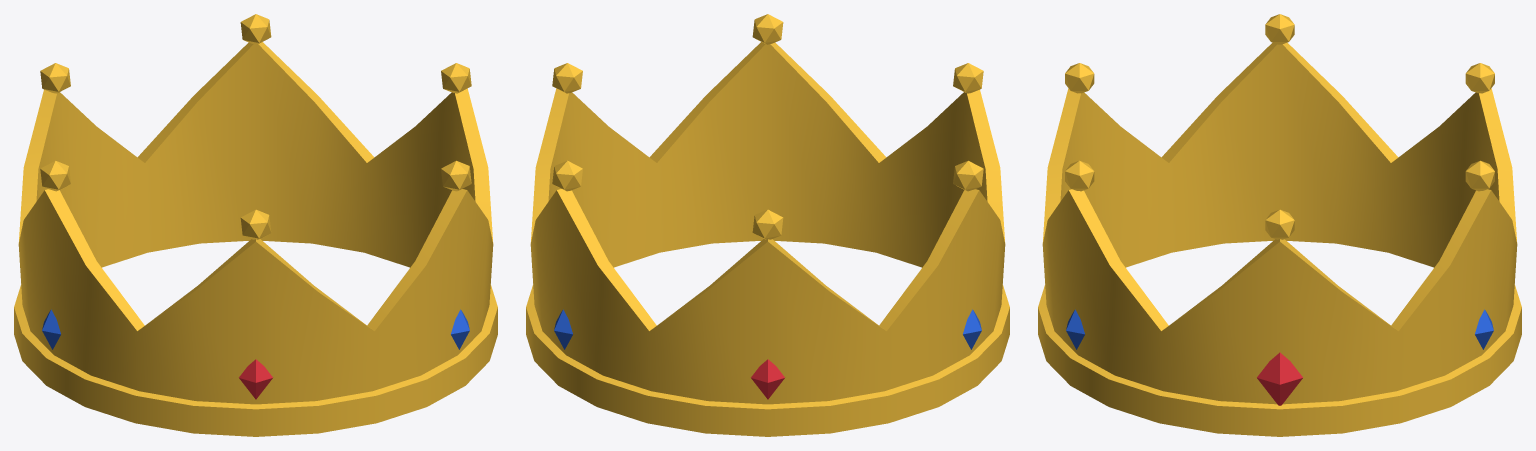
The model's file is acc_crown.glb.
The picture shows the model from 3 angles, left to right: view 1: azimuth 30°, elevation 25°; view 2: azimuth 150°, elevation 25°; view 3: azimuth 270°, elevation 25°; orthographic projection.
Parts seen in each view (by area): view 1: Crown; view 2: Crown; view 3: Crown.
Boxes of the visible parts, x1=… form: Crown: x1=14, y1=14, x2=497, y2=436; Crown: x1=526, y1=14, x2=1009, y2=436; Crown: x1=1038, y1=14, x2=1521, y2=436.
Size of the model in its own units: 0.4902 by 0.244 by 0.476.
